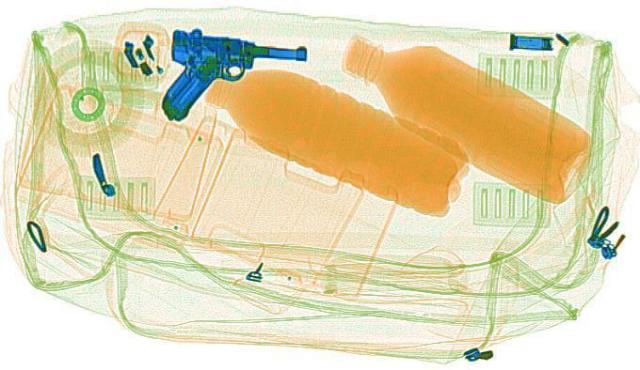Gun: (135, 27, 315, 132)
